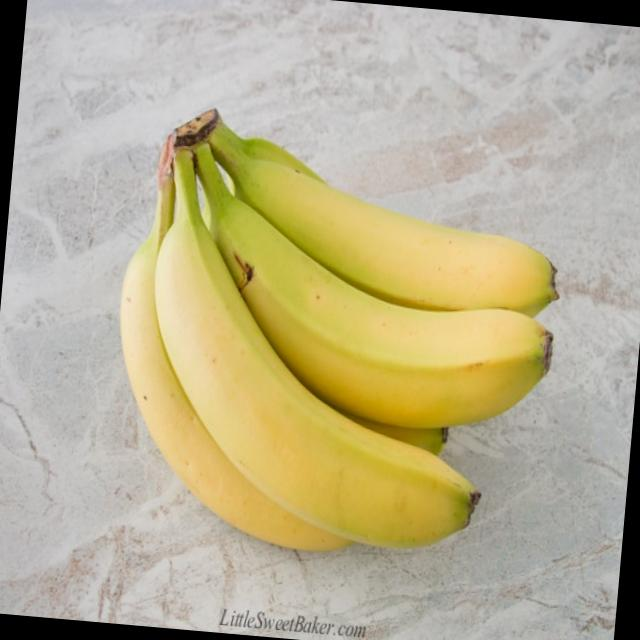Platano: (97, 98, 576, 575)
